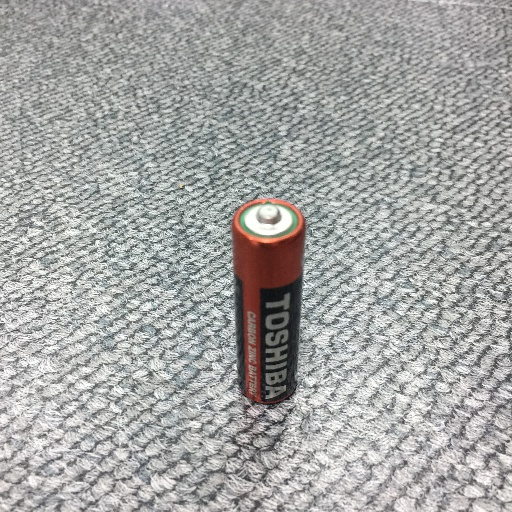Battery_0: (227, 191, 319, 423)
